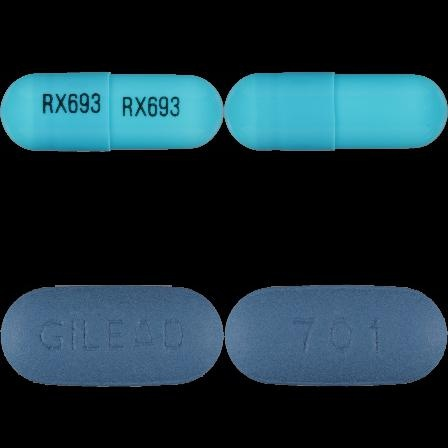69189-0693: (0, 0, 224, 224)
